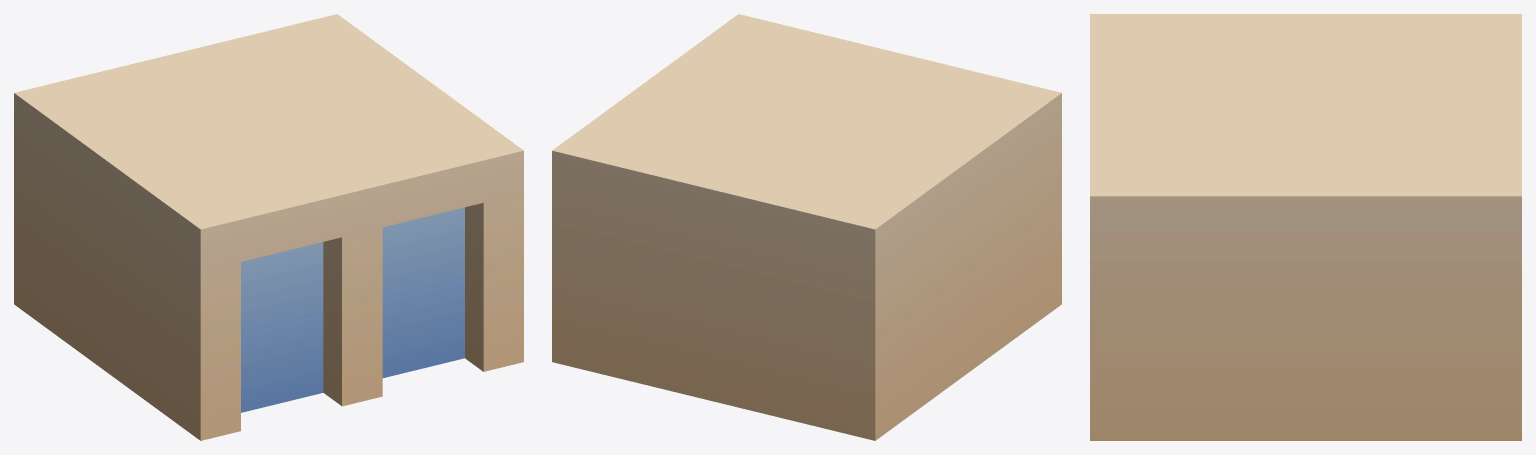
File: kenney-modular-buildings-building-windows-high-top-square.glb
3 renders of one model, left to right at view 1: azimuth 30°, elevation 25°; view 2: azimuth 150°, elevation 25°; view 3: azimuth 270°, elevation 25°, orthographic. The views are drawn at different scales.
Parts seen in each view (by area): view 1: building-windows-high-top-square; view 2: building-windows-high-top-square; view 3: building-windows-high-top-square.
Part boxes in pixels (left/top/right/bottom): building-windows-high-top-square: left=14, top=14, right=523, bottom=440; building-windows-high-top-square: left=552, top=14, right=1061, bottom=440; building-windows-high-top-square: left=1090, top=14, right=1521, bottom=440.
Size of the model in its own units: 1 by 0.625 by 1.
1 material, 1 textured.
